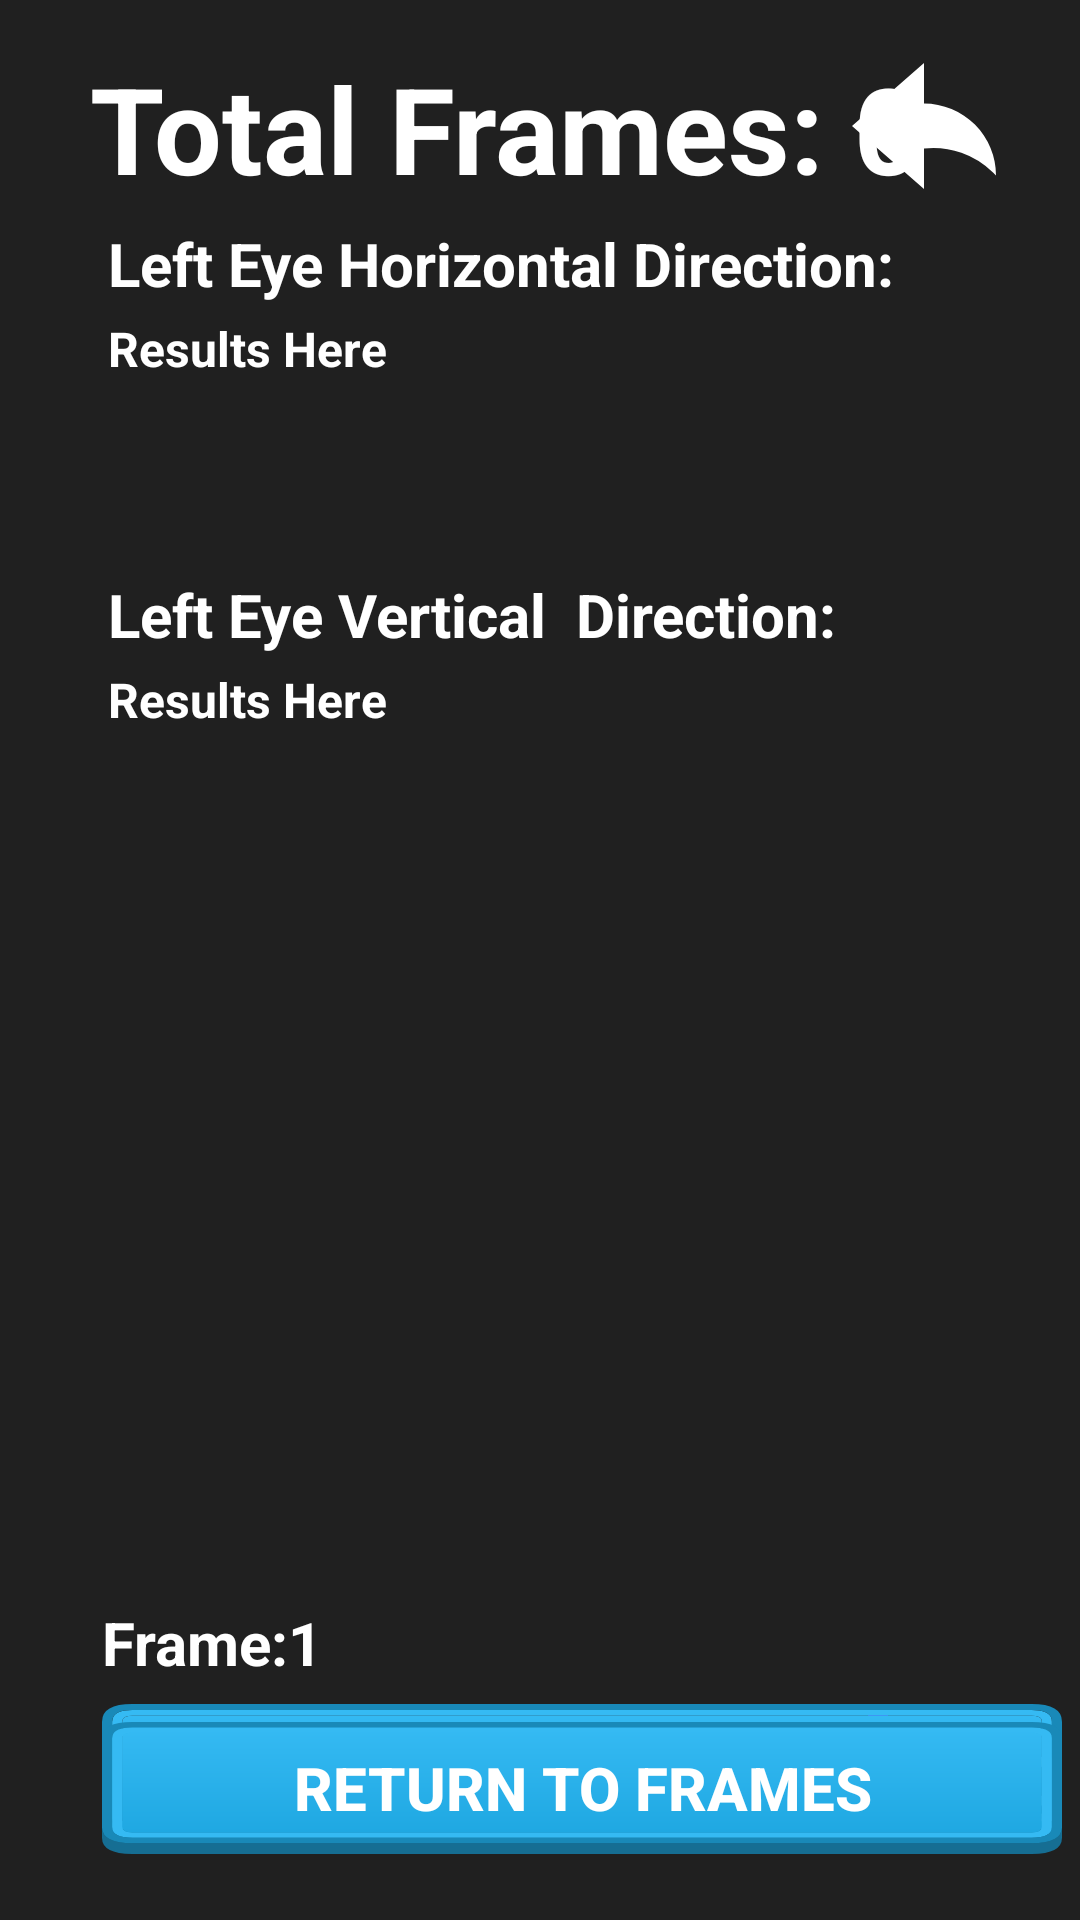

Where icons sit on this 1080x1920 app screen, as (x1, y1, x2, y2):
undo: (852, 63, 996, 189)
